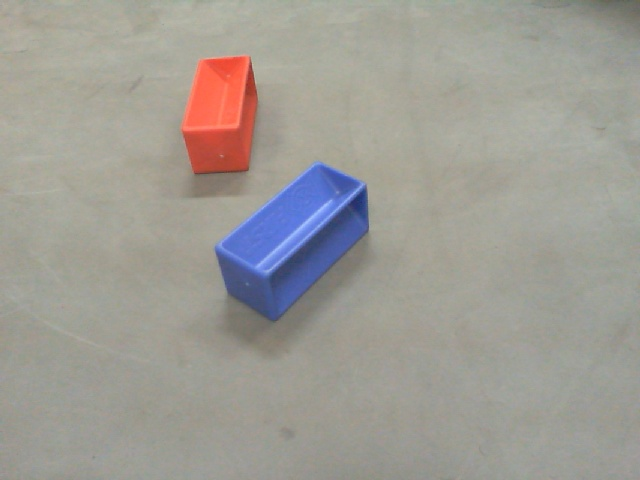BlueSample: (212, 161, 390, 321)
RedSample: (180, 52, 260, 179)
